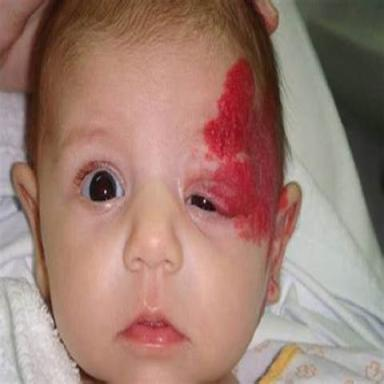Hemangiome: (205, 58, 288, 241)
